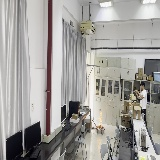fire: (97, 108, 102, 128)
